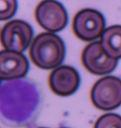L: (0, 78, 44, 126)
